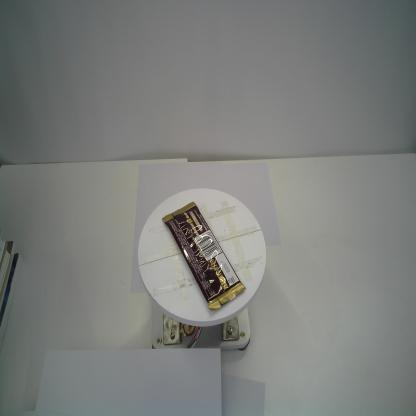Chocolate: (161, 201, 246, 313)
